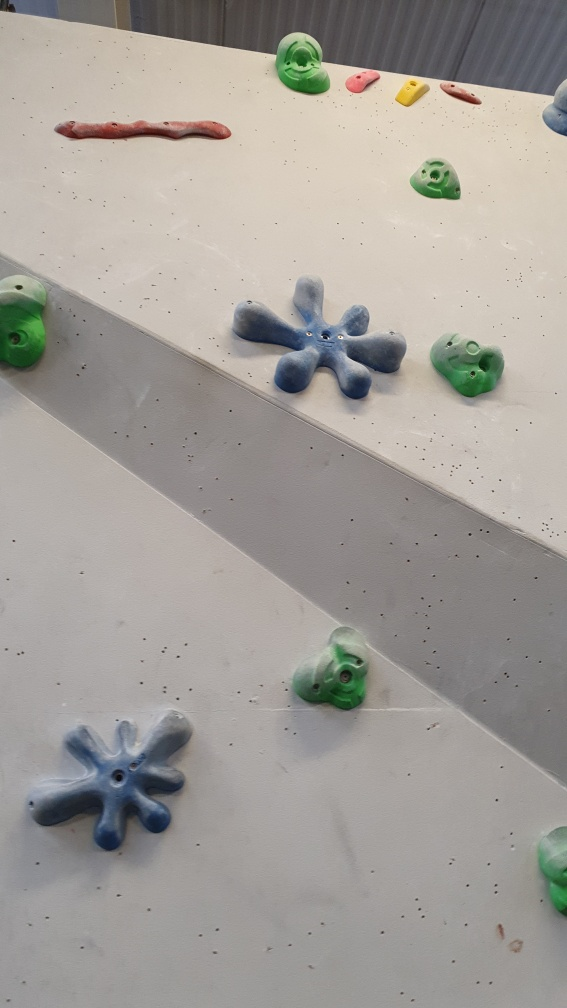Jug: (297, 623, 379, 713), (428, 330, 507, 403), (1, 272, 51, 376), (270, 28, 332, 102), (410, 153, 466, 205)
Octopus Pinch: (227, 267, 413, 402), (27, 705, 194, 854)
